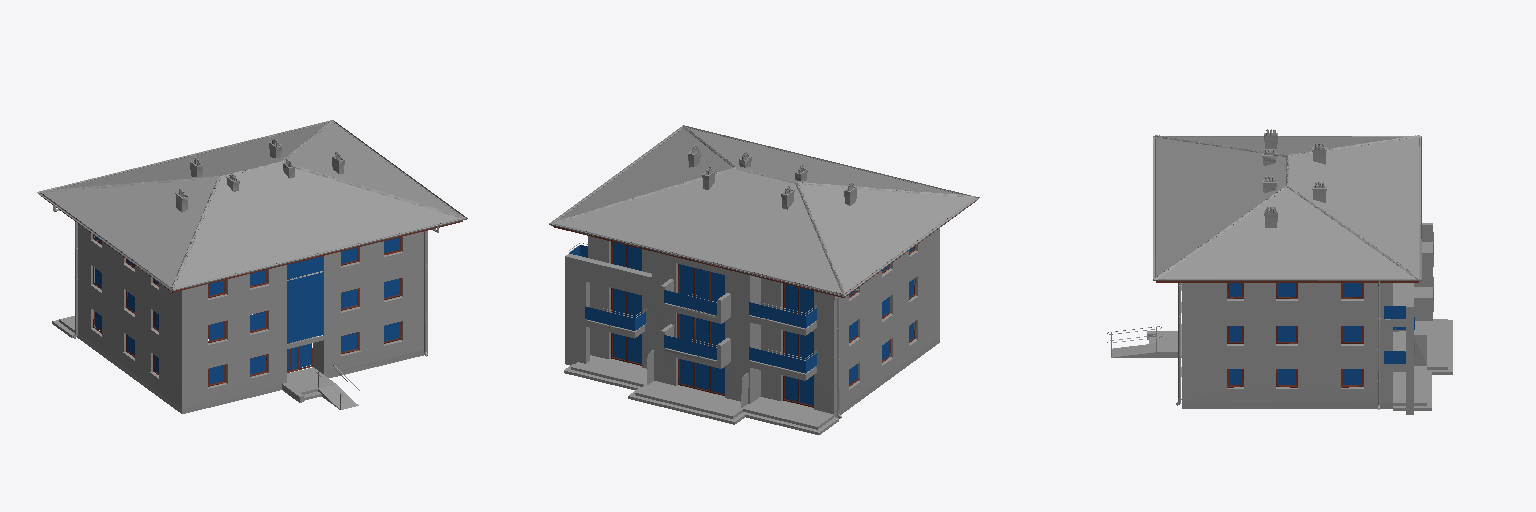
File: casa.obj
The picture shows the model from 3 angles: view 1: azimuth 30°, elevation 25°; view 2: azimuth 150°, elevation 25°; view 3: azimuth 270°, elevation 25°; orthographic projection.
Parts seen in each view (by area): view 1: building_05; view 2: building_05; view 3: building_05.
Part boxes in pixels (bbox=[...]): building_05: bbox=[37, 120, 467, 413]; building_05: bbox=[549, 125, 979, 434]; building_05: bbox=[1107, 129, 1452, 414].
Bounding box in the file's own units: 7.87 × 4.7 × 7.94.